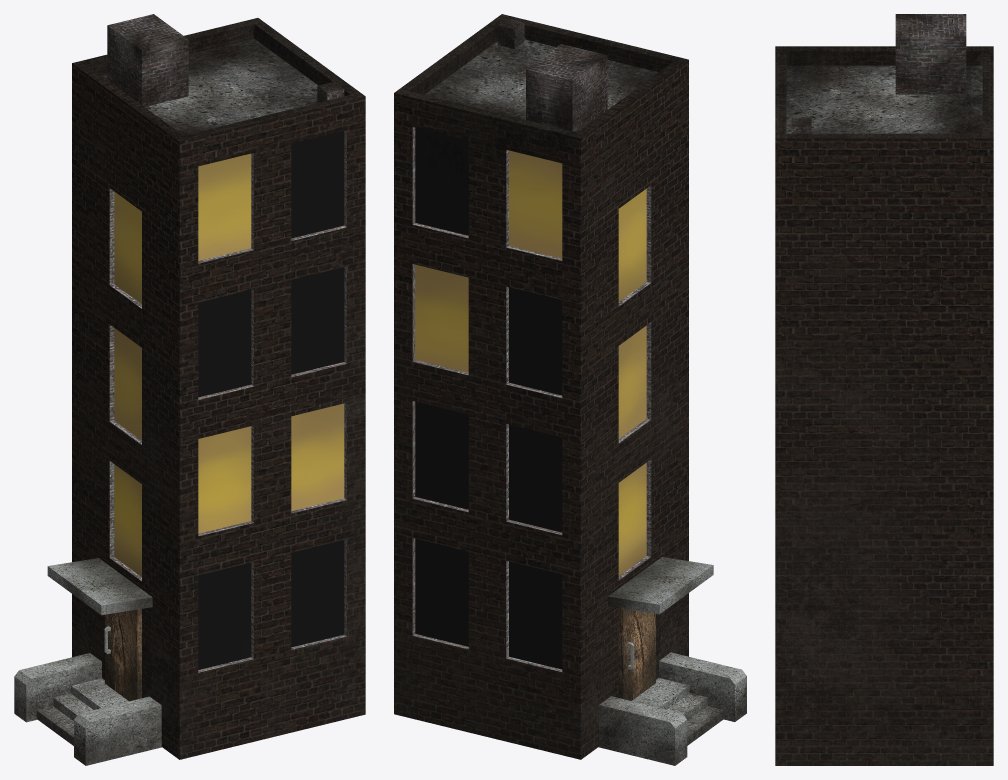
File: tower.fbx
3 renders of one model, left to right at view 1: azimuth 30°, elevation 25°; view 2: azimuth 150°, elevation 25°; view 3: azimuth 270°, elevation 25°, orthographic.
Visible parts, largest first — view 1: Building; view 2: Building; view 3: Building.
Part boxes in pixels (x1=…): Building: x1=14, y1=14, x2=365, y2=765; Building: x1=394, y1=14, x2=746, y2=765; Building: x1=775, y1=14, x2=993, y2=765.
Size of the model in its own units: 281 by 679 by 200.
Materials: 1 (1 with a texture image).
